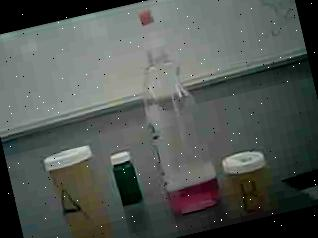Bottle A: (30, 128, 122, 238)
Bottle B: (214, 132, 282, 224)
Bottle C: (103, 138, 150, 218)
hazard: (113, 0, 228, 230)
